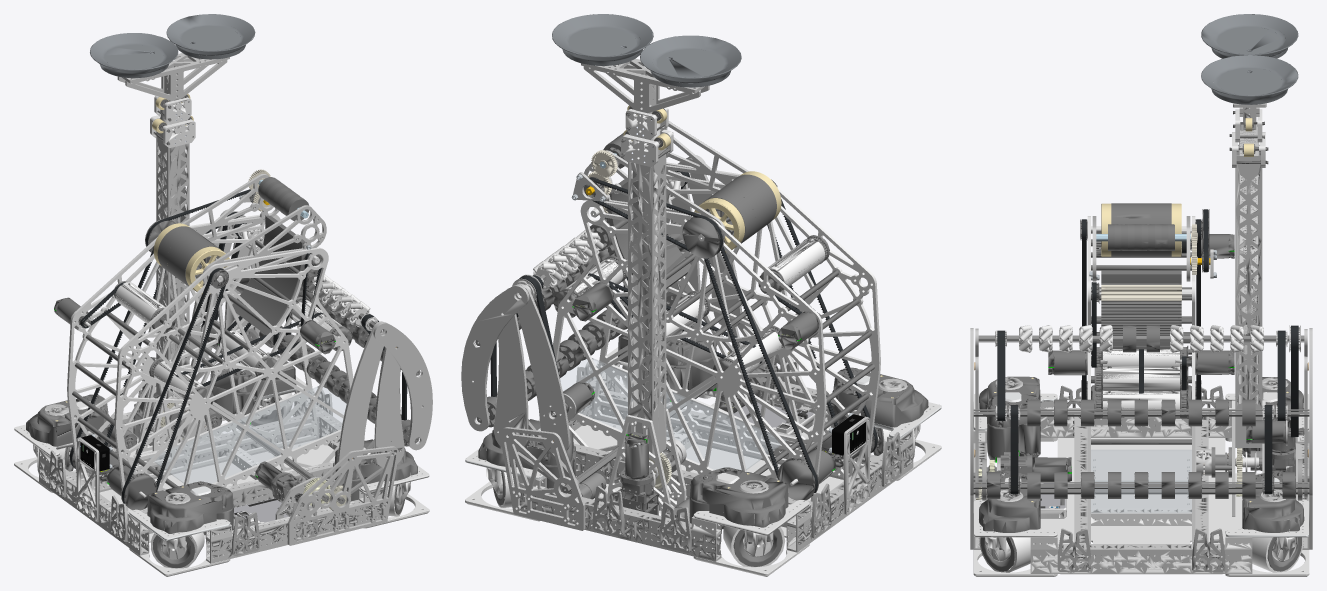
The model's file is hero-constantine-1318.glb.
3 views of the same model, side by side, from view 1: azimuth 30°, elevation 25°; view 2: azimuth 150°, elevation 25°; view 3: azimuth 270°, elevation 25° (orthographic). The views are drawn at different scales.
Parts seen in each view (by area): view 1: frame, intake, hood, climb-top, intake-fixed, intake-links, climb-mid, flywheel; view 2: frame, intake, climb-top, climb-mid, intake-links, intake-fixed, hood, flywheel; view 3: frame, intake, climb-top, hood, climb-mid, intake-fixed, flywheel, intake-links.
Part boxes in pixels (box(x1,y1,x2,y2)): frame: box(14, 53, 429, 576); intake: box(200, 209, 432, 505); hood: box(182, 174, 326, 335); climb-top: box(90, 14, 255, 147); intake-fixed: box(134, 320, 398, 545); intake-links: box(189, 226, 404, 468); climb-mid: box(156, 129, 189, 399); flywheel: box(153, 223, 229, 294); frame: box(465, 58, 941, 576); intake: box(461, 155, 776, 493); climb-top: box(552, 14, 741, 166); climb-mid: box(628, 145, 666, 457); intake-links: box(493, 158, 742, 453); intake-fixed: box(500, 291, 801, 530); hood: box(584, 121, 749, 288); flywheel: box(694, 171, 781, 252); frame: box(973, 103, 1309, 576); intake: box(970, 325, 1312, 498); climb-top: box(1201, 14, 1298, 167); hood: box(1092, 216, 1190, 349); climb-mid: box(1235, 144, 1262, 447); intake-fixed: box(970, 420, 1312, 549); flywheel: box(1101, 203, 1181, 256); intake-links: box(975, 328, 1307, 498).
Bounding box in the file's own units: 0.6464 × 0.9548 × 0.6477.
